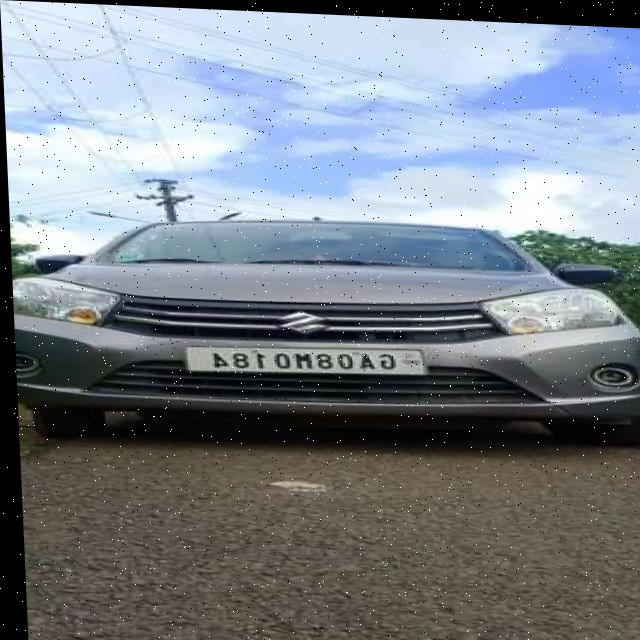plate: (179, 337, 425, 381)
